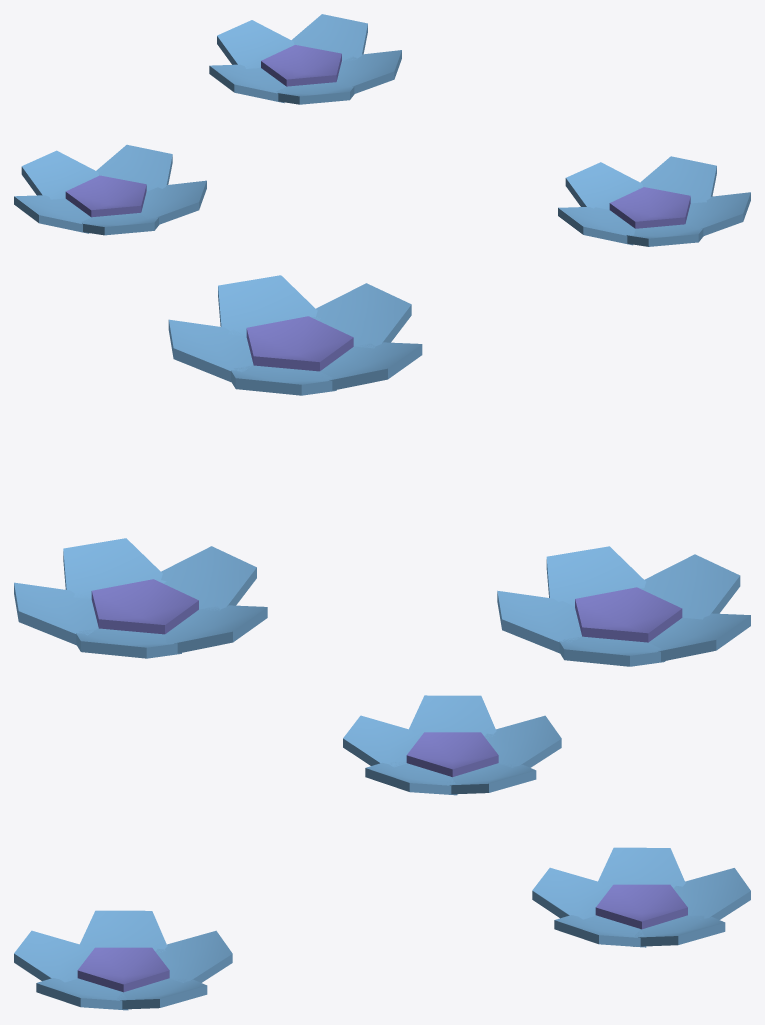
The model's file is fbFlowers2.fbx.
3 views of the same model, one above another, from view 1: azimuth 30°, elevation 25°; view 2: azimuth 150°, elevation 25°; view 3: azimuth 270°, elevation 25° (orthographic). The views are drawn at different scales.
Visible parts, largest first — view 1: fbFlower2; view 2: fbFlower2; view 3: fbFlower2.
Part boxes in pixels (<box>): fbFlower2: <box>14,14,750,246</box>; fbFlower2: <box>14,275,750,666</box>; fbFlower2: <box>14,695,750,1010</box>.
Size of the model in its own units: 205 by 8.11 by 211.
